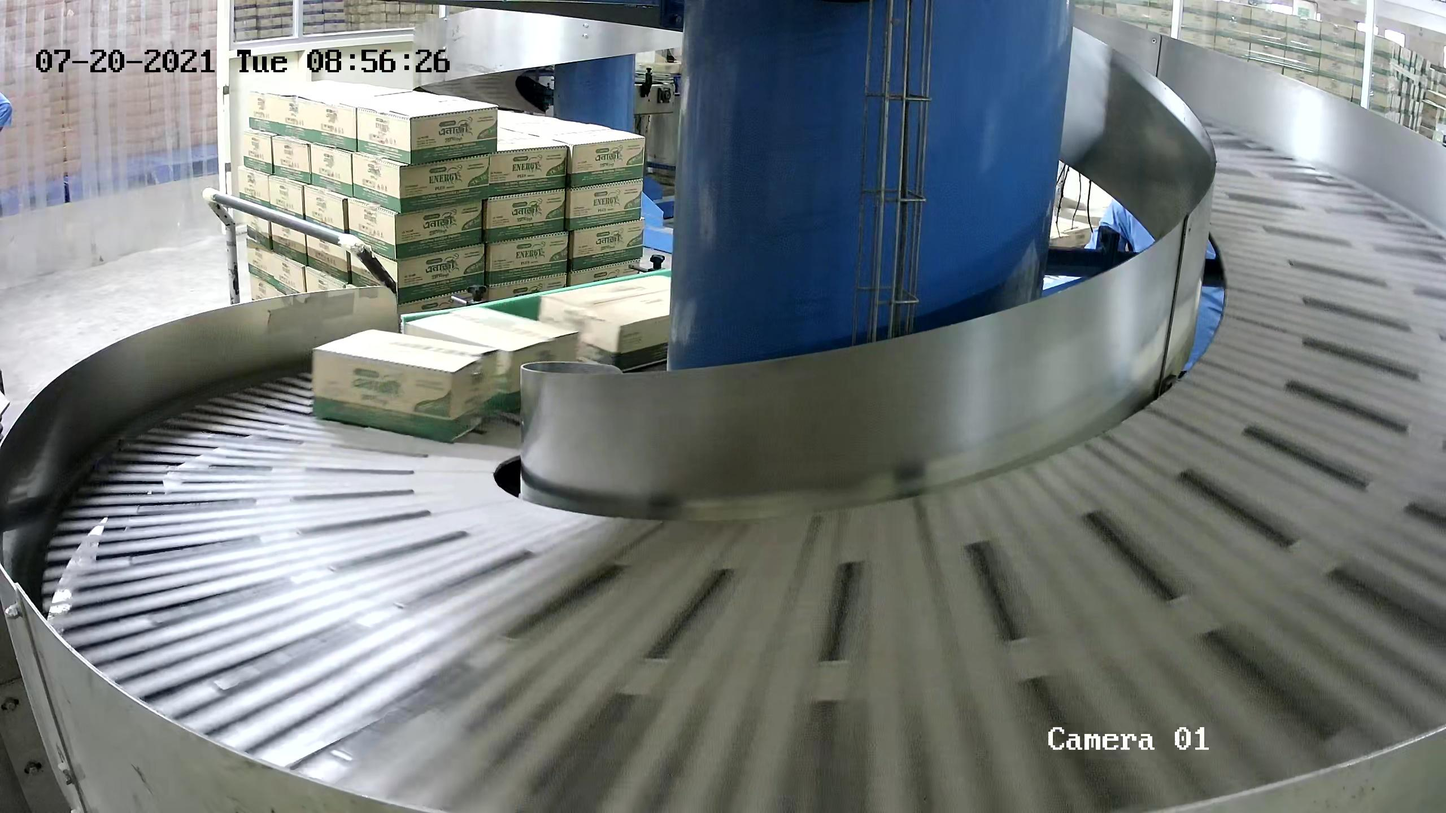Box: (312, 328, 500, 443), (404, 305, 580, 413), (534, 274, 713, 380)
